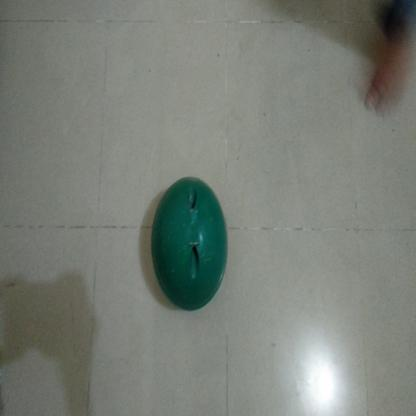green_buoy: (150, 170, 230, 313)
